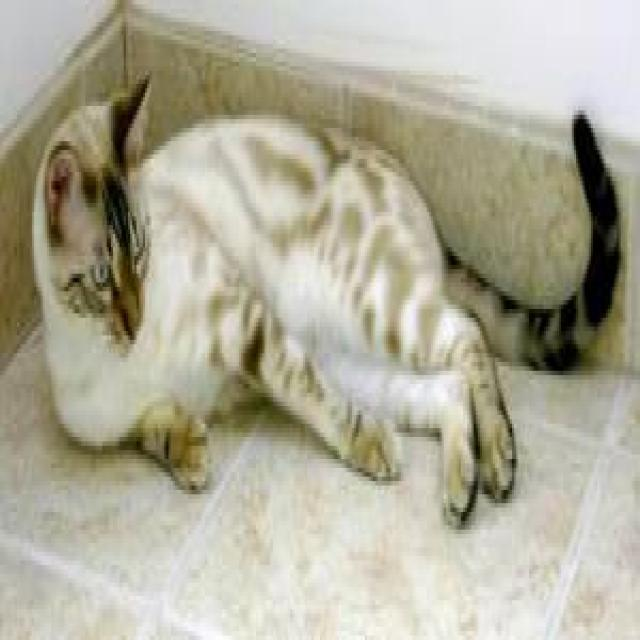Bengal: (37, 71, 150, 349)
